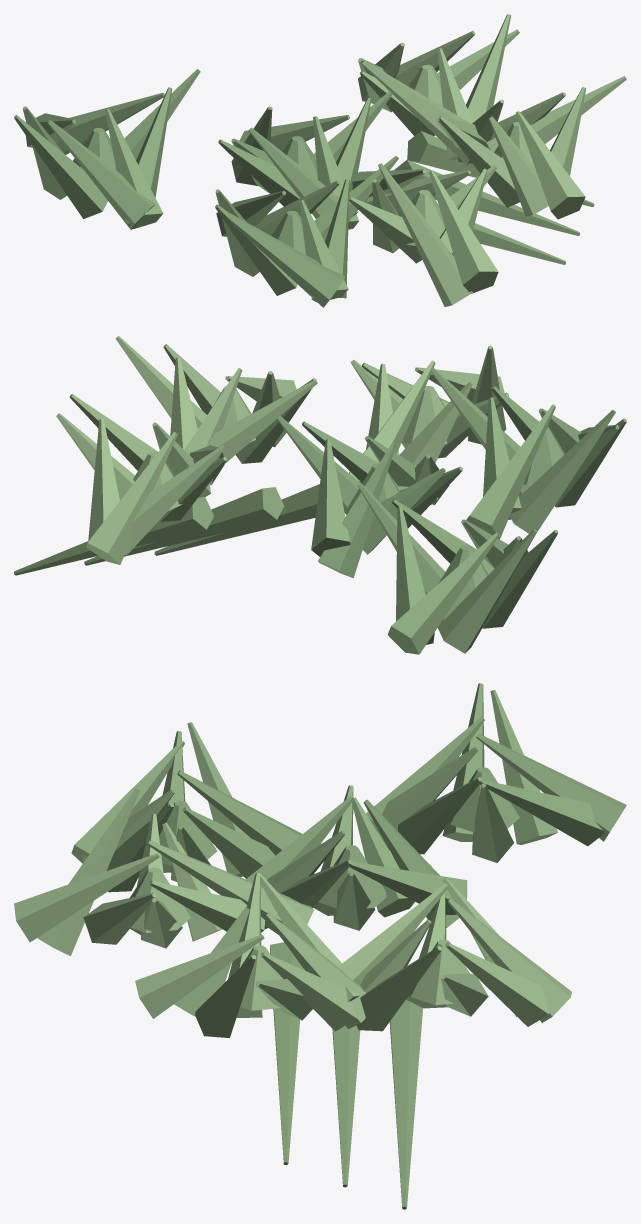
File: ASTX_VEG_CLIFFTUFT_A.glb
3 renders of one model, top to bottom at view 1: azimuth 30°, elevation 25°; view 2: azimuth 150°, elevation 25°; view 3: azimuth 270°, elevation 25°, orthographic. The views are drawn at different scales.
Parts seen in each view (by area): view 1: ASTX_VEG_CLIFFTUFT_A_ros03_sp05, ASTX_VEG_CLIFFTUFT_A_ros04_sp05, ASTX_VEG_CLIFFTUFT_A_ros03_sp06, ASTX_VEG_CLIFFTUFT_A_ros02_sp05, ASTX_VEG_CLIFFTUFT_A_ros02_sp04, ASTX_VEG_CLIFFTUFT_A_ros05_sp06, ASTX_VEG_CLIFFTUFT_A_ros01_sp05, ASTX_VEG_CLIFFTUFT_A_ros05_sp05, ASTX_VEG_CLIFFTUFT_A_ros05_sp04, ASTX_VEG_CLIFFTUFT_A_ros02_sp06, ASTX_VEG_CLIFFTUFT_A_ros01_sp07, ASTX_VEG_CLIFFTUFT_A_ros00_sp05 (+42 smaller); view 2: ASTX_VEG_CLIFFTUFT_A_ros02_sp02, ASTX_VEG_CLIFFTUFT_A_ros02_sp03, ASTX_VEG_CLIFFTUFT_A_ros04_sp03, ASTX_VEG_CLIFFTUFT_A_ros04_sp02, ASTX_VEG_CLIFFTUFT_A_ros01_sp02, ASTX_VEG_CLIFFTUFT_A_trail01, ASTX_VEG_CLIFFTUFT_A_ros00_sp02, ASTX_VEG_CLIFFTUFT_A_ros00_sp01, ASTX_VEG_CLIFFTUFT_A_trail02, ASTX_VEG_CLIFFTUFT_A_ros01_sp03, ASTX_VEG_CLIFFTUFT_A_ros05_sp03, ASTX_VEG_CLIFFTUFT_A_trail00 (+42 smaller); view 3: ASTX_VEG_CLIFFTUFT_A_trail02, ASTX_VEG_CLIFFTUFT_A_ros03_sp06, ASTX_VEG_CLIFFTUFT_A_ros05_sp06, ASTX_VEG_CLIFFTUFT_A_ros02_sp02, ASTX_VEG_CLIFFTUFT_A_ros02_sp01, ASTX_VEG_CLIFFTUFT_A_trail00, ASTX_VEG_CLIFFTUFT_A_ros01_sp02, ASTX_VEG_CLIFFTUFT_A_ros01_sp01, ASTX_VEG_CLIFFTUFT_A_ros03_sp05, ASTX_VEG_CLIFFTUFT_A_ros03_sp02, ASTX_VEG_CLIFFTUFT_A_trail01, ASTX_VEG_CLIFFTUFT_A_ros04_sp02 (+42 smaller).
Boxes of the visible parts, x1,y1,x2,y2 form: ASTX_VEG_CLIFFTUFT_A_ros03_sp05: [378, 163, 472, 306]; ASTX_VEG_CLIFFTUFT_A_ros04_sp05: [228, 212, 344, 307]; ASTX_VEG_CLIFFTUFT_A_ros03_sp06: [429, 170, 498, 293]; ASTX_VEG_CLIFFTUFT_A_ros02_sp05: [47, 120, 155, 229]; ASTX_VEG_CLIFFTUFT_A_ros02_sp04: [14, 115, 107, 218]; ASTX_VEG_CLIFFTUFT_A_ros05_sp06: [515, 111, 585, 219]; ASTX_VEG_CLIFFTUFT_A_ros01_sp05: [362, 60, 470, 165]; ASTX_VEG_CLIFFTUFT_A_ros05_sp05: [488, 116, 548, 216]; ASTX_VEG_CLIFFTUFT_A_ros05_sp04: [438, 116, 519, 207]; ASTX_VEG_CLIFFTUFT_A_ros02_sp06: [105, 109, 163, 229]; ASTX_VEG_CLIFFTUFT_A_ros01_sp07: [466, 14, 510, 122]; ASTX_VEG_CLIFFTUFT_A_ros00_sp05: [248, 127, 358, 218]; ASTX_VEG_CLIFFTUFT_A_ros02_sp02: [387, 532, 499, 654]; ASTX_VEG_CLIFFTUFT_A_ros02_sp03: [437, 529, 537, 653]; ASTX_VEG_CLIFFTUFT_A_ros04_sp03: [509, 410, 615, 533]; ASTX_VEG_CLIFFTUFT_A_ros04_sp02: [466, 404, 555, 539]; ASTX_VEG_CLIFFTUFT_A_ros01_sp02: [86, 432, 177, 564]; ASTX_VEG_CLIFFTUFT_A_trail01: [84, 487, 284, 565]; ASTX_VEG_CLIFFTUFT_A_ros00_sp02: [318, 443, 395, 578]; ASTX_VEG_CLIFFTUFT_A_ros00_sp01: [311, 439, 350, 556]; ASTX_VEG_CLIFFTUFT_A_trail02: [14, 497, 213, 575]; ASTX_VEG_CLIFFTUFT_A_ros01_sp03: [125, 445, 225, 555]; ASTX_VEG_CLIFFTUFT_A_ros05_sp03: [207, 380, 317, 465]; ASTX_VEG_CLIFFTUFT_A_trail00: [154, 484, 319, 555]; ASTX_VEG_CLIFFTUFT_A_trail02: [389, 999, 422, 1209]; ASTX_VEG_CLIFFTUFT_A_ros03_sp06: [14, 853, 159, 942]; ASTX_VEG_CLIFFTUFT_A_ros05_sp06: [135, 934, 264, 1018]; ASTX_VEG_CLIFFTUFT_A_ros02_sp02: [476, 733, 626, 841]; ASTX_VEG_CLIFFTUFT_A_ros02_sp01: [480, 779, 603, 846]; ASTX_VEG_CLIFFTUFT_A_trail00: [270, 942, 304, 1164]; ASTX_VEG_CLIFFTUFT_A_ros01_sp02: [447, 898, 571, 1022]; ASTX_VEG_CLIFFTUFT_A_ros01_sp01: [445, 942, 549, 1026]; ASTX_VEG_CLIFFTUFT_A_ros03_sp05: [37, 788, 139, 956]; ASTX_VEG_CLIFFTUFT_A_ros03_sp02: [147, 840, 313, 934]; ASTX_VEG_CLIFFTUFT_A_trail01: [332, 1025, 360, 1187]; ASTX_VEG_CLIFFTUFT_A_ros04_sp02: [177, 770, 321, 855].
Bounding box in the file's own units: 1.09 × 0.4008 × 0.9316.
